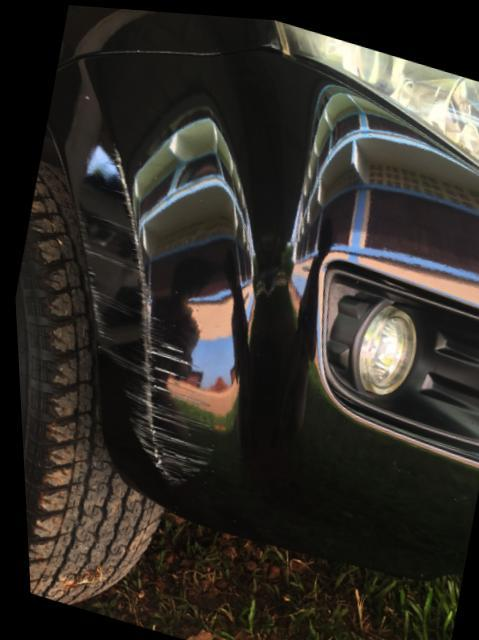scratch: (74, 141, 213, 481)
